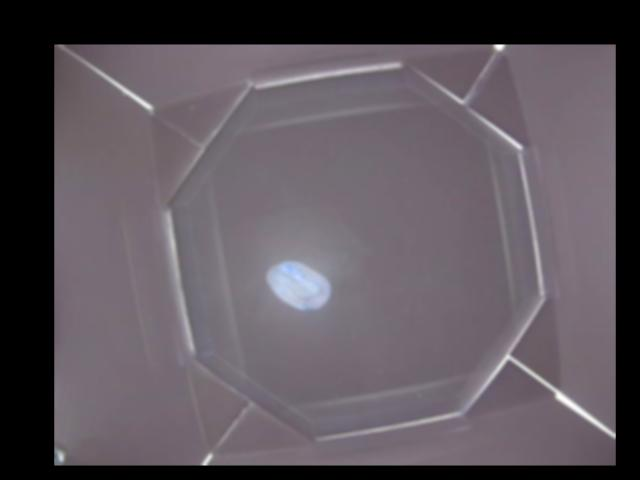Pebble: (264, 262, 331, 311)
